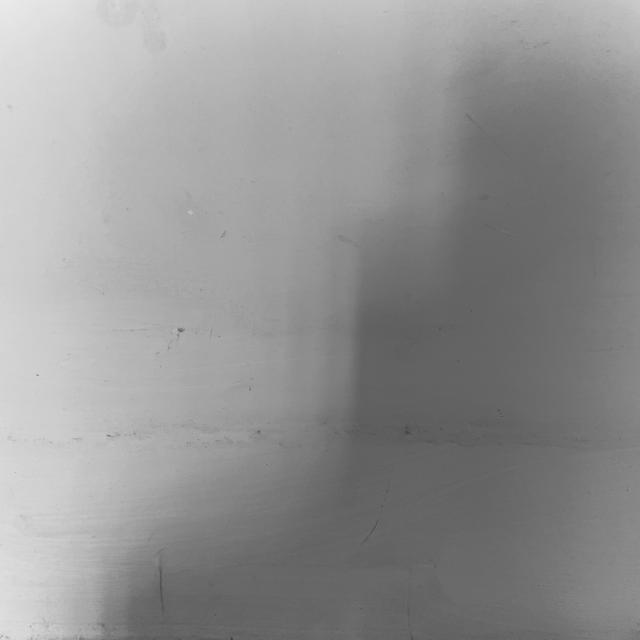rough and patchy surface: (19, 19, 636, 640)
